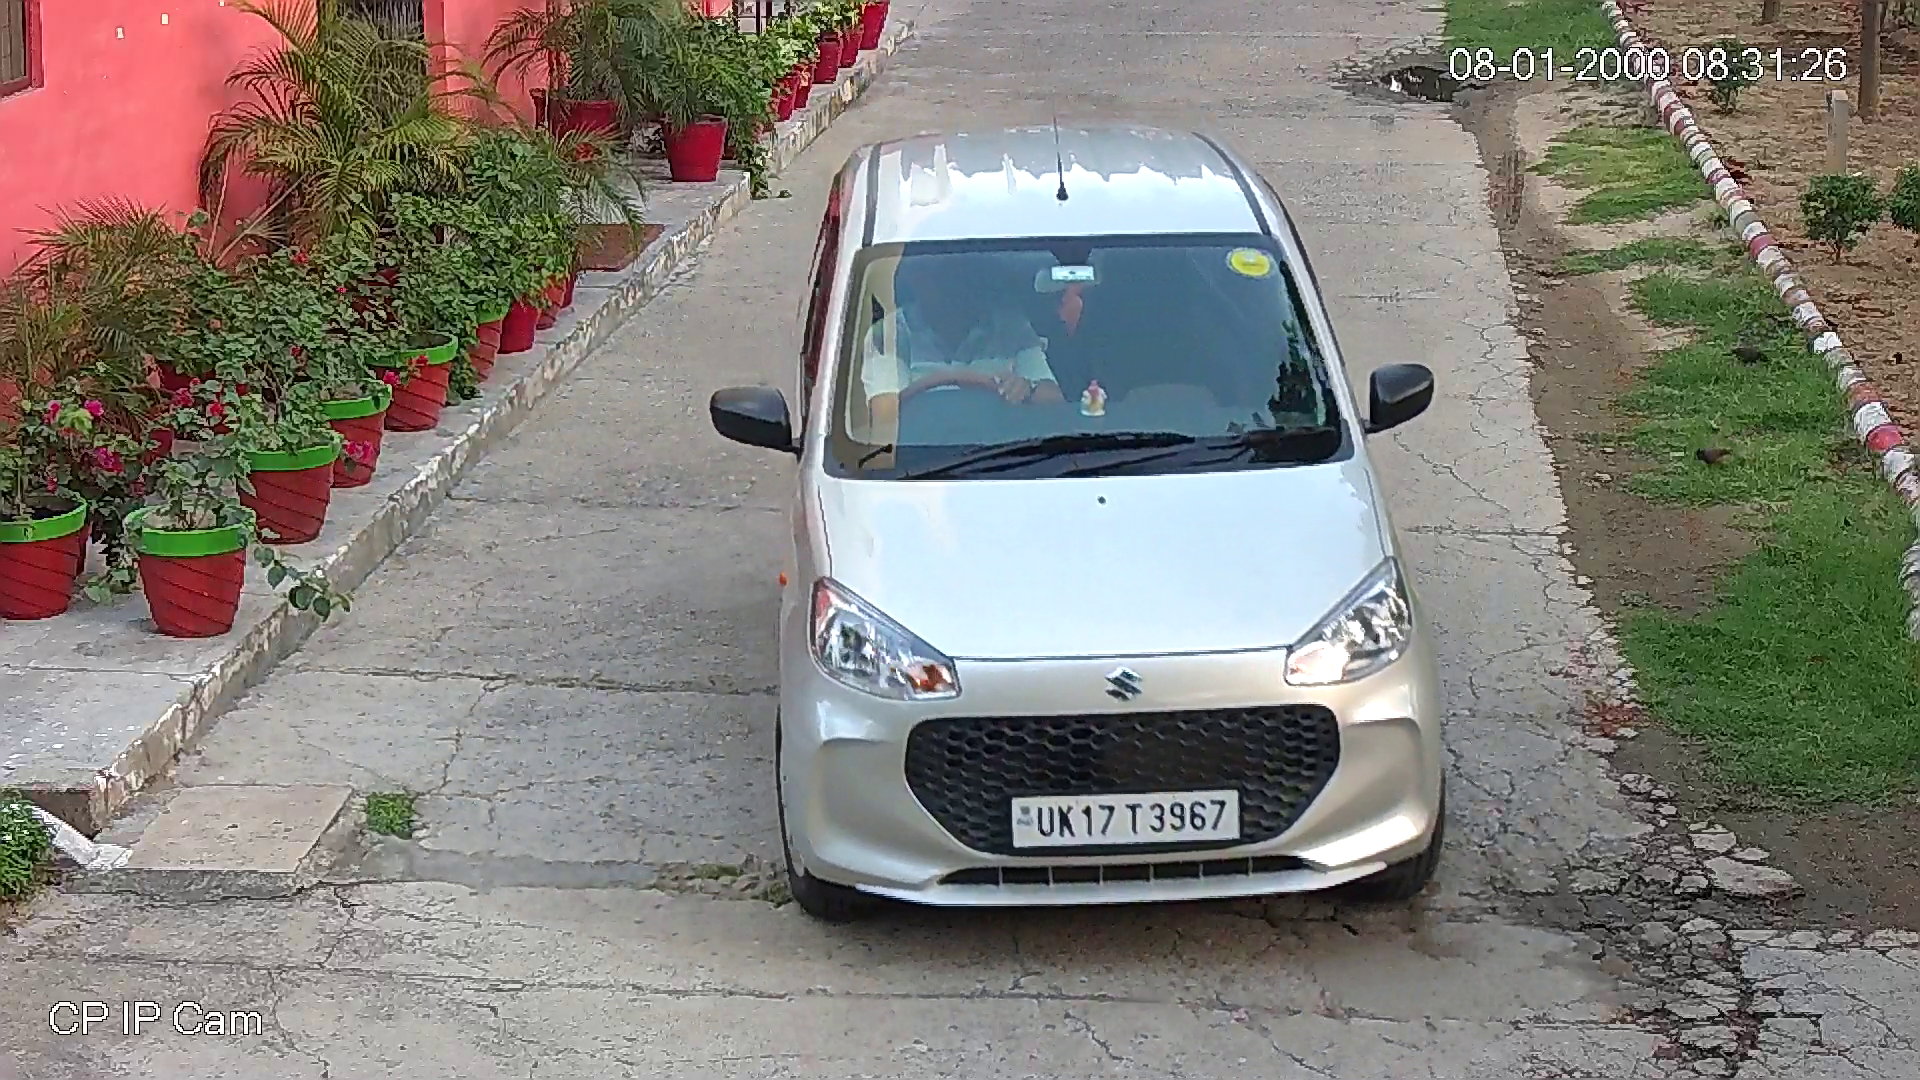plate: (1007, 783, 1241, 855)
